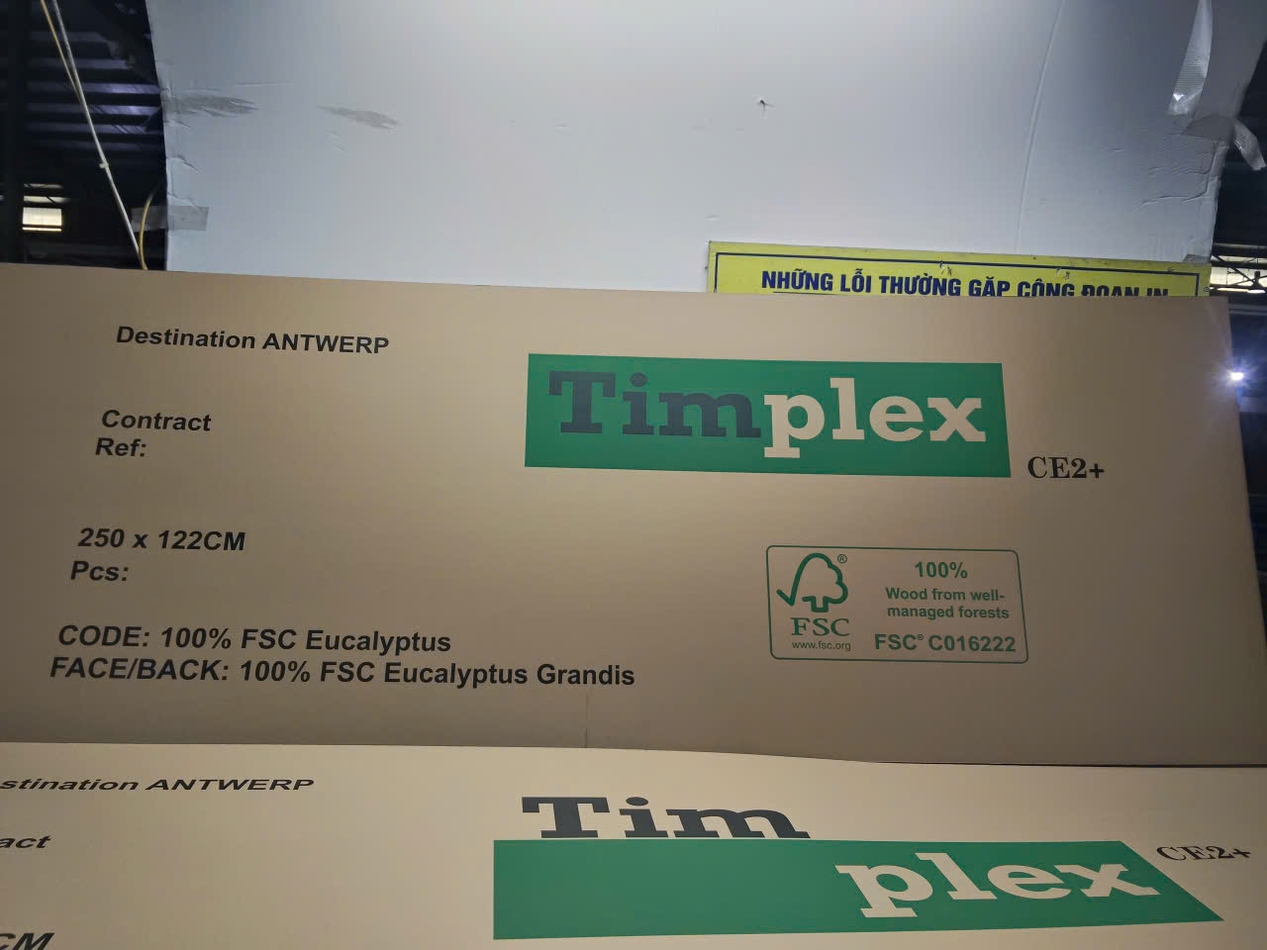box: (0, 268, 1267, 772)
